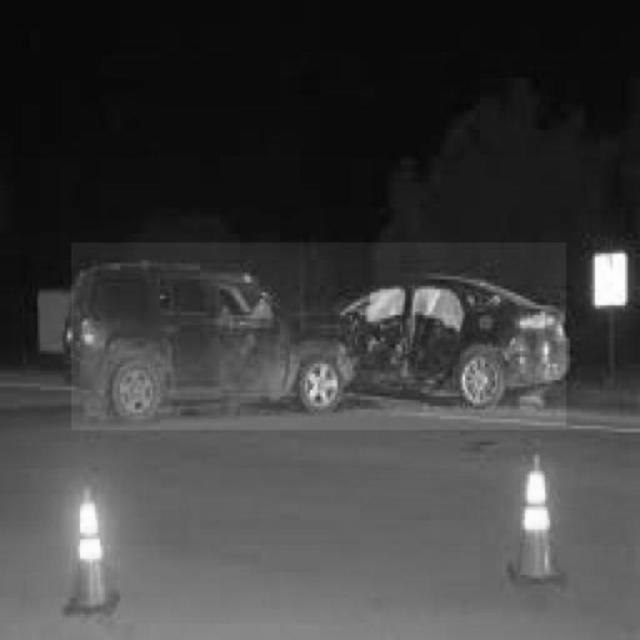accident: (71, 243, 566, 430)
